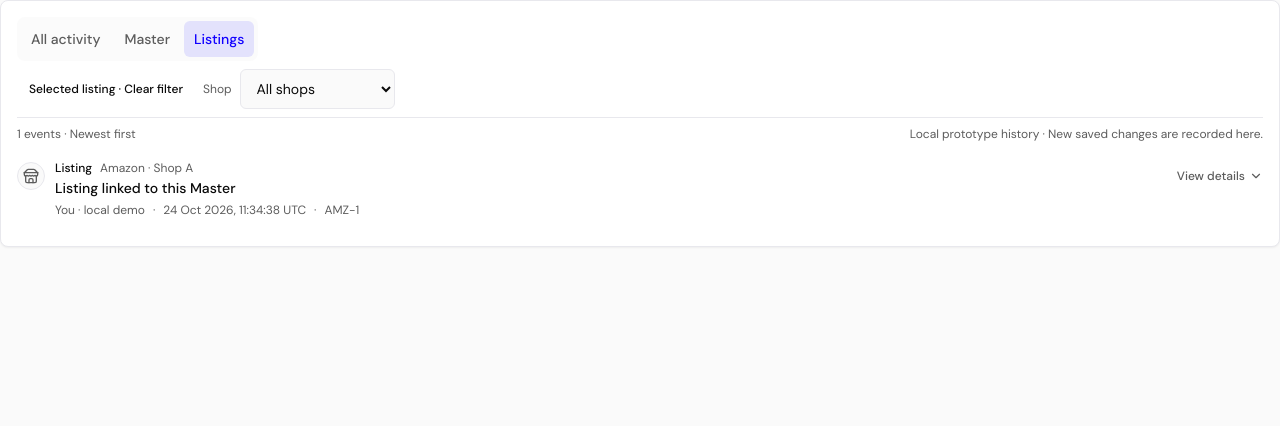
Test: Unified product activity history › filters one listing even when another listing belongs to the same shop and channel
The image size is (1280, 426).
Expected: the number of list items is 1, [17,150,1263,230]
Expected: the text "AMZ-1" is shown, [324,200,359,220]
Click the button "Selected listing · Clear filter" at (106, 89), box [17,73,195,105]
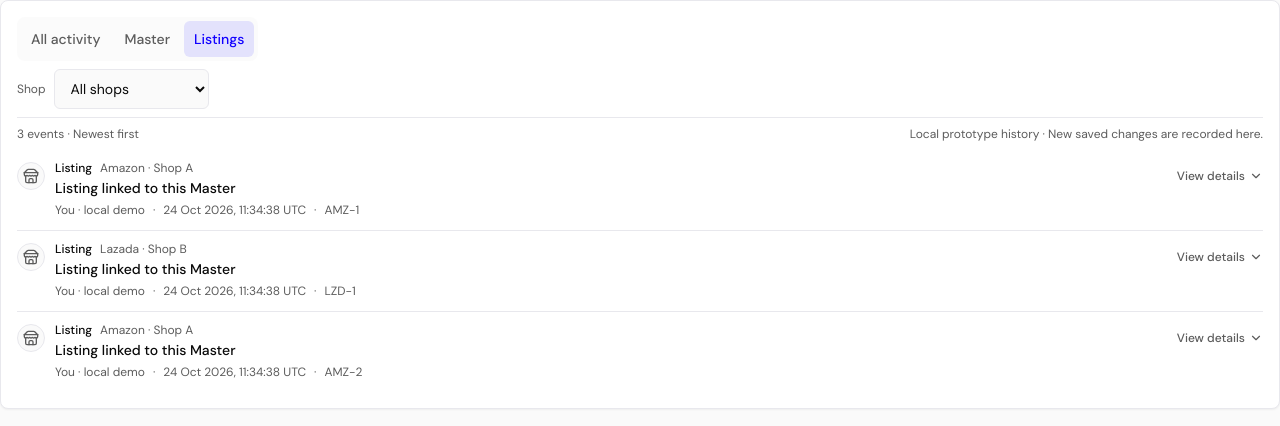
Result: the number of list items is 3 at [17,150,1263,230]; [17,230,1263,311]; [17,311,1263,392]
